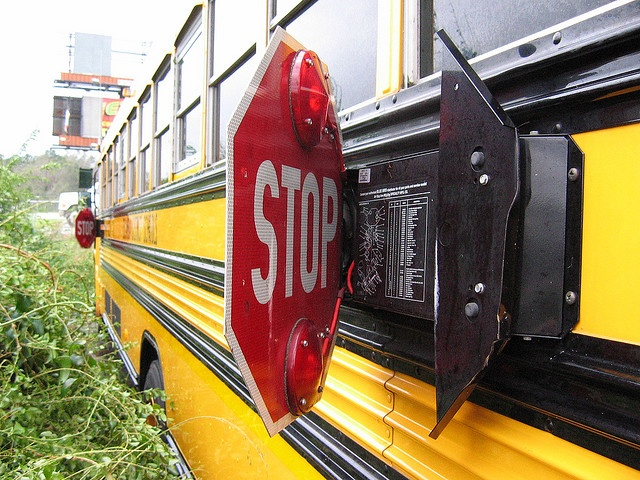bus: (85, 0, 640, 474)
stop sign: (226, 24, 579, 460), (75, 208, 172, 456)
